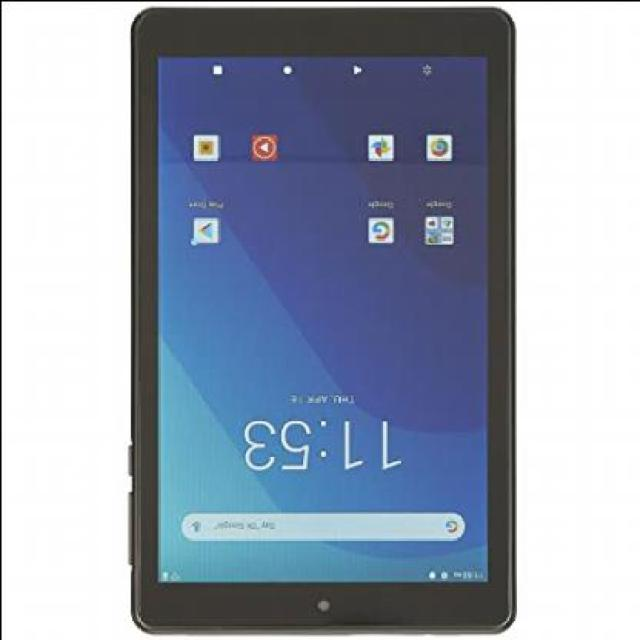tablet: (118, 7, 535, 640)
